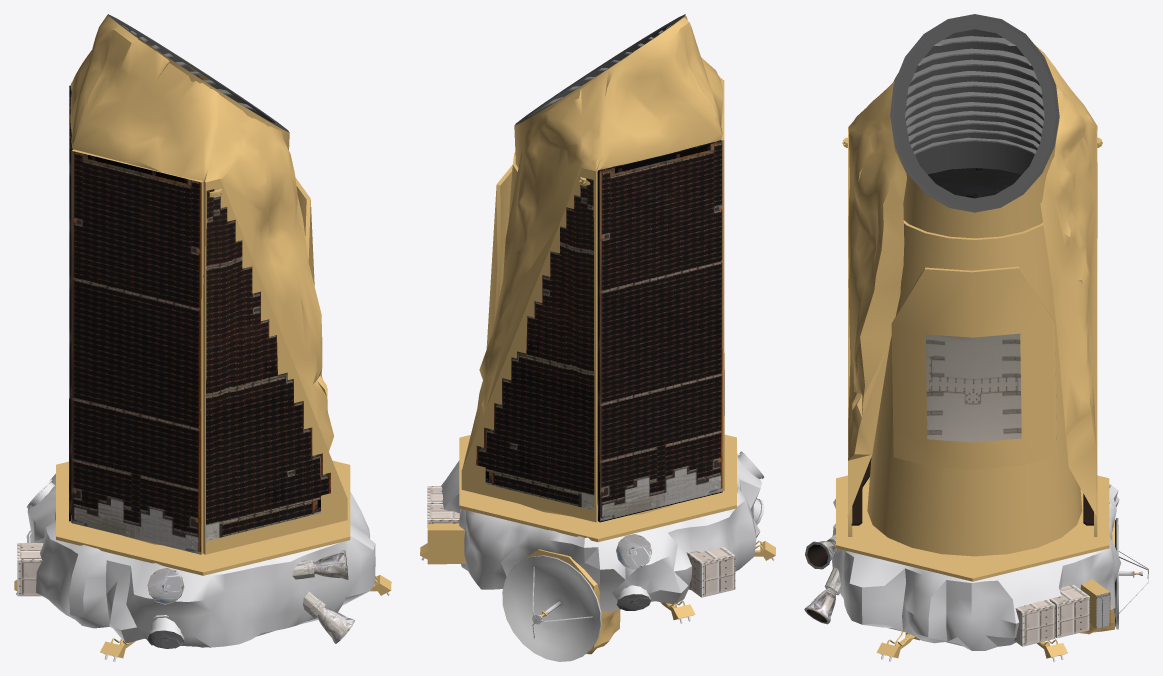
Rendered from kepler.glb.
3 views of the same model, side by side, from view 1: azimuth 30°, elevation 25°; view 2: azimuth 150°, elevation 25°; view 3: azimuth 270°, elevation 25° (orthographic). The views are drawn at different scales.
Parts seen in each view (by area): view 1: shiny_panel, foil_gold, foil_silver; view 2: shiny_panel, foil_gold, foil_silver, dish_AO; view 3: foil_gold, shiny_panel, foil_silver, dish_AO.
Boxes of the visible parts, bbox=[...] form: shiny_panel: bbox=[17, 14, 354, 648]; foil_gold: bbox=[14, 14, 391, 658]; foil_silver: bbox=[16, 474, 389, 661]; shiny_panel: bbox=[427, 14, 735, 610]; foil_gold: bbox=[420, 14, 775, 654]; foil_silver: bbox=[421, 451, 774, 623]; dish_AO: bbox=[502, 555, 601, 661]; foil_gold: bbox=[836, 45, 1138, 658]; shiny_panel: bbox=[804, 14, 1110, 646]; foil_silver: bbox=[832, 484, 1120, 661]; dish_AO: bbox=[1113, 518, 1148, 629].
Bounding box in the file's own units: 2.49 × 4.7 × 2.5.
5 materials, 3 textured.
